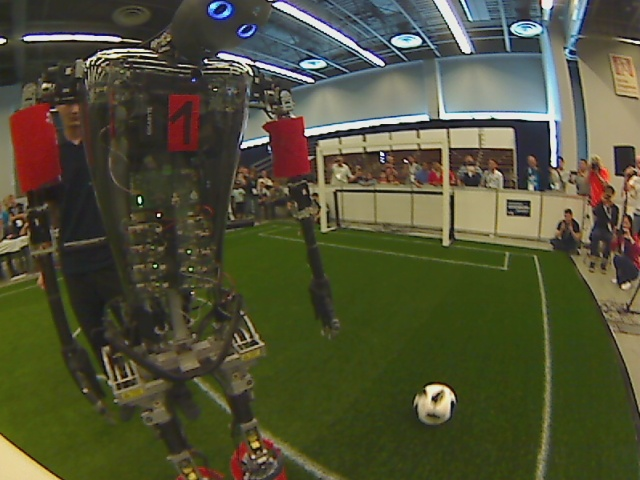ball: (413, 381, 457, 425)
